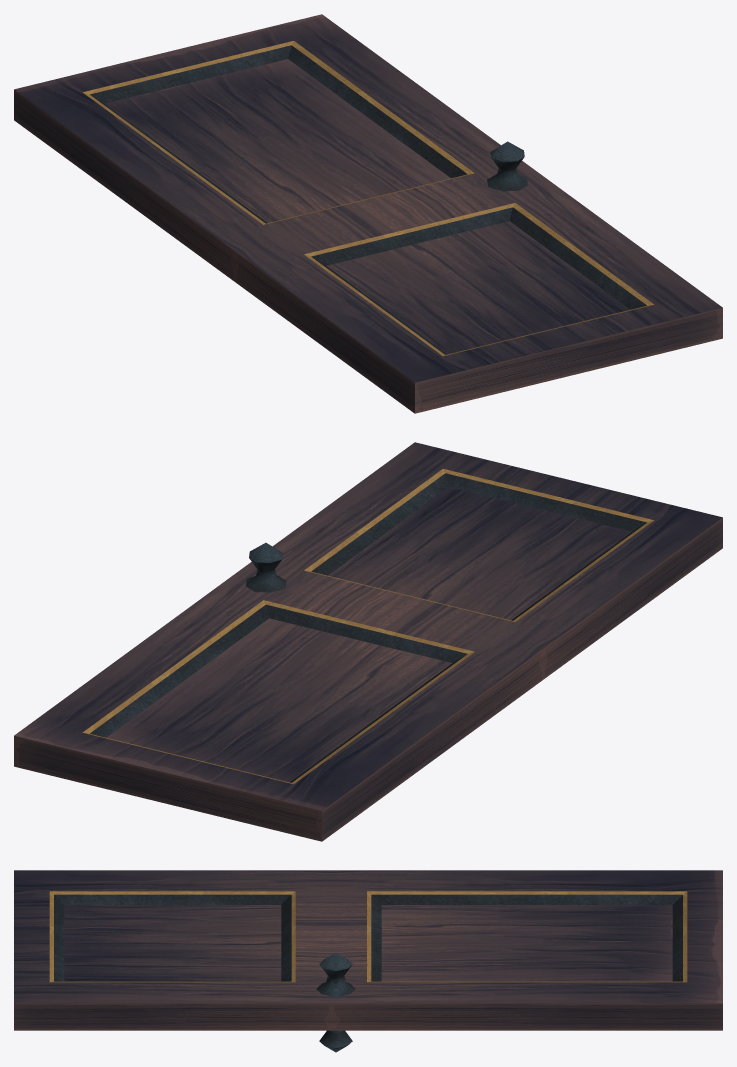
Rendered from Door_B.fbx.
3 views of the same model, one above another, from view 1: azimuth 30°, elevation 25°; view 2: azimuth 150°, elevation 25°; view 3: azimuth 270°, elevation 25° (orthographic). The views are drawn at different scales.
Visible parts, largest first — view 1: Door_B; view 2: Door_B; view 3: Door_B.
Part boxes in pixels (left/top/right/bottom): Door_B: left=14, top=14, right=722, bottom=413; Door_B: left=14, top=442, right=722, bottom=841; Door_B: left=14, top=870, right=722, bottom=1052.
Size of the model in its own units: 18.3 by 6.42 by 41.26.
